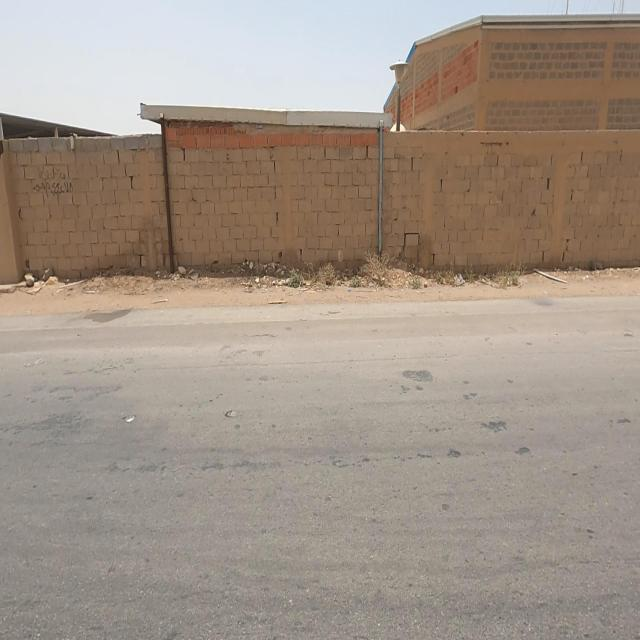Graffiti: (33, 167, 74, 200)
